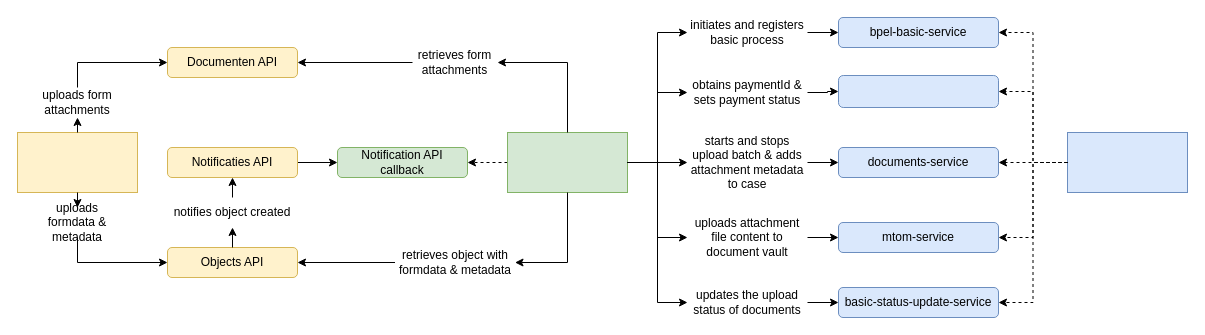
The diagram is 1205 pixels wide and 335 high, and some of its shapes have lost their labels. The shapes that lost their labels are listed below. From the top down, each one's centre as x and y in pixels, then its label:
At pixel 918 91: "payment-service".
At pixel 77 162: "Open-forms".
At pixel 567 162: "Openforms2bpel".
At pixel 1127 162: "Exxellence".
